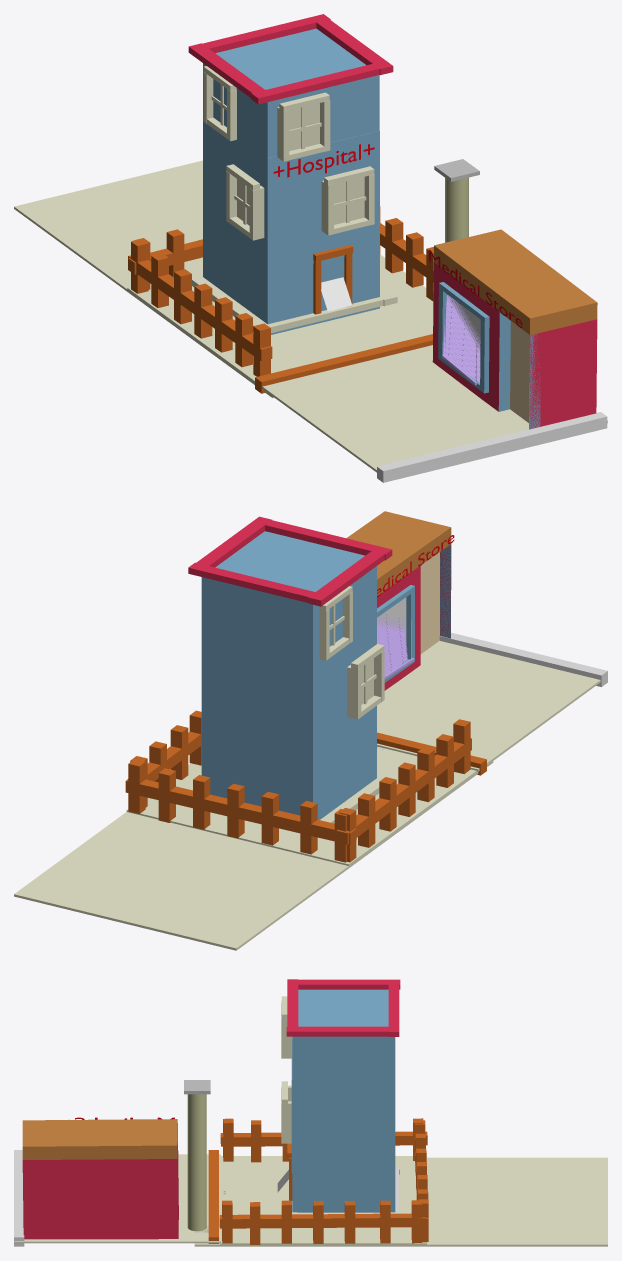
Rendered from Hospital_building.fbx.
The picture shows the model from 3 angles, top to bottom: view 1: azimuth 30°, elevation 25°; view 2: azimuth 150°, elevation 25°; view 3: azimuth 270°, elevation 25°; orthographic projection. The views are drawn at different scales.
Visible parts, largest first — view 1: Cube.001, Cube.049, Cube.004, Cube.002, Cube.005, Cube.003, Cube.023, Cube.014, Cube.012, Cube.007, Cube.032, Cube.022 (+23 smaller); view 2: Cube.001, Cube.002, Cube.004, Cube.049, Cube.006, Cube.003, Cube.040, Cube.007, Cube.032, Cube.023, Cube.013, Cube.011 (+20 smaller); view 3: Cube.049, Cube.002, Cube.005, Cube.001, Cube.003, Cube.006, Column, Cube.004, Cube, Cube.009, Cube.008, Cube.032 (+16 smaller).
Boxes of the visible parts, <box> form: Cube.001: <box>203,28,379,333</box>; Cube.049: <box>432,229,597,429</box>; Cube.004: <box>254,345,607,472</box>; Cube.002: <box>14,160,274,397</box>; Cube.005: <box>268,130,379,275</box>; Cube.003: <box>127,254,433,382</box>; Cube.023: <box>377,412,607,482</box>; Cube.014: <box>321,166,374,235</box>; Cube.012: <box>277,92,330,161</box>; Cube.007: <box>226,164,264,240</box>; Cube.032: <box>128,255,272,361</box>; Cube.022: <box>255,334,432,393</box>; Cube.001: <box>201,531,376,819</box>; Cube.002: <box>14,761,493,950</box>; Cube.004: <box>377,641,600,771</box>; Cube.049: <box>346,511,451,690</box>; Cube.006: <box>201,730,312,815</box>; Cube.003: <box>126,746,476,865</box>; Cube.040: <box>125,779,356,844</box>; Cube.007: <box>347,644,384,719</box>; Cube.032: <box>336,738,471,844</box>; Cube.023: <box>439,632,607,686</box>; Cube.013: <box>319,586,352,660</box>; Cube.011: <box>188,562,324,602</box>; Cube.049: <box>22,1119,178,1239</box>; Cube.002: <box>194,1157,607,1246</box>; Cube.005: <box>291,1037,394,1173</box>; Cube.001: <box>292,989,395,1157</box>; Cube.003: <box>220,1156,426,1245</box>; Cube.006: <box>292,1158,395,1212</box>; Column: <box>187,1094,206,1231</box>; Cube.004: <box>14,1154,220,1243</box>; Cube: <box>219,1213,426,1228</box>; Cube.009: <box>286,1026,398,1036</box>; Cube.008: <box>288,979,400,989</box>; Cube.032: <box>220,1131,427,1146</box>.
Bounding box in the file's own units: 4096 × 4231 × 11499.
